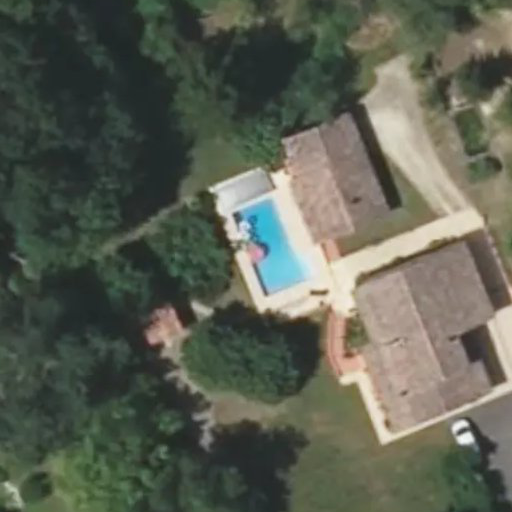pool: (219, 206, 292, 277)
